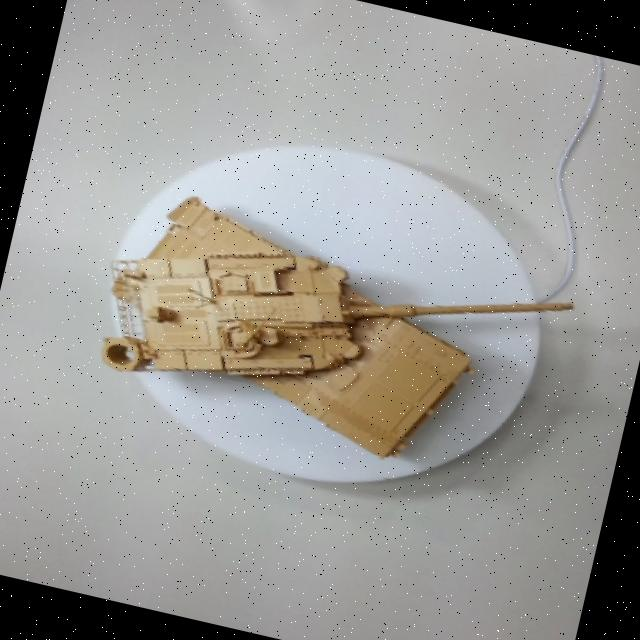korea tank: (43, 124, 598, 532)
